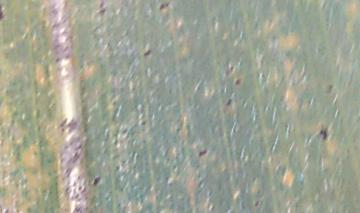tarspot: (159, 1, 171, 11), (320, 127, 328, 142), (326, 83, 334, 95), (143, 48, 152, 57), (198, 149, 207, 158), (1, 3, 5, 22), (94, 175, 101, 185), (98, 8, 108, 15), (140, 118, 147, 126), (234, 78, 241, 86), (254, 199, 260, 208), (229, 64, 234, 74), (98, 1, 104, 8), (227, 98, 232, 106)
